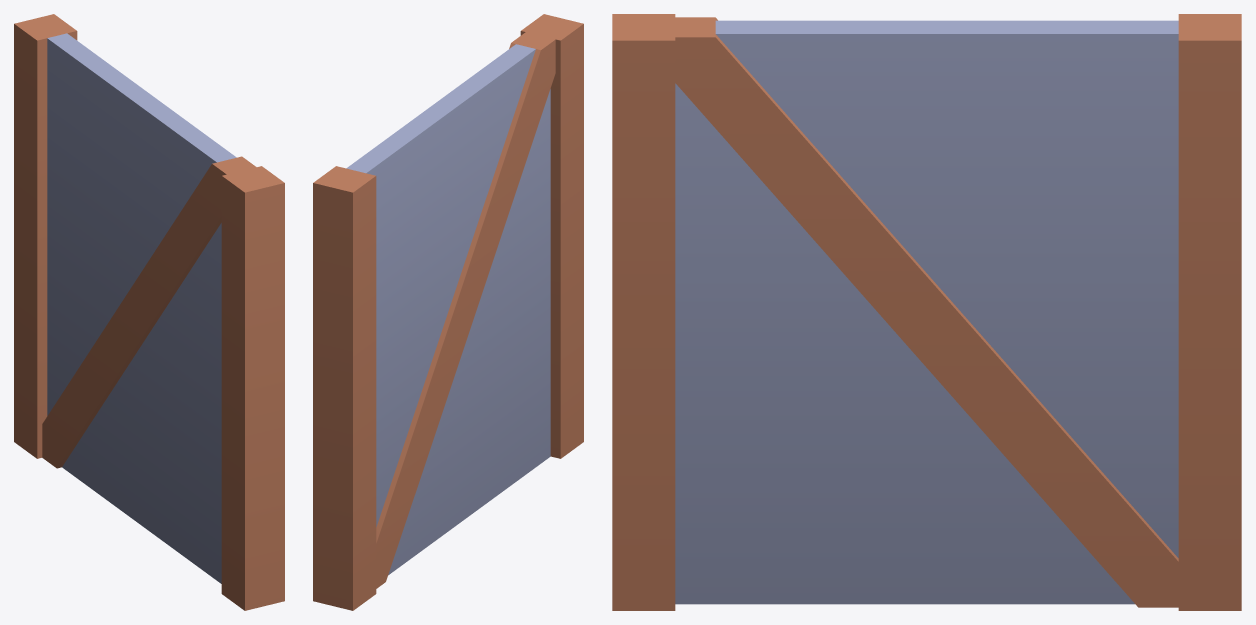
Rendered from wall-detail-diagonal.glb.
The picture shows the model from 3 angles, left to right: view 1: azimuth 30°, elevation 25°; view 2: azimuth 150°, elevation 25°; view 3: azimuth 270°, elevation 25°; orthographic projection. The views are drawn at different scales.
Parts seen in each view (by area): view 1: wall-detail-diagonal; view 2: wall-detail-diagonal; view 3: wall-detail-diagonal.
Part boxes in pixels (x1=…): wall-detail-diagonal: x1=14, y1=14, x2=284, y2=610; wall-detail-diagonal: x1=313, y1=14, x2=583, y2=610; wall-detail-diagonal: x1=612, y1=14, x2=1241, y2=610.
Bounding box in the file's own units: 0.1 × 1 × 1.
Materials: 1 (1 with a texture image).
